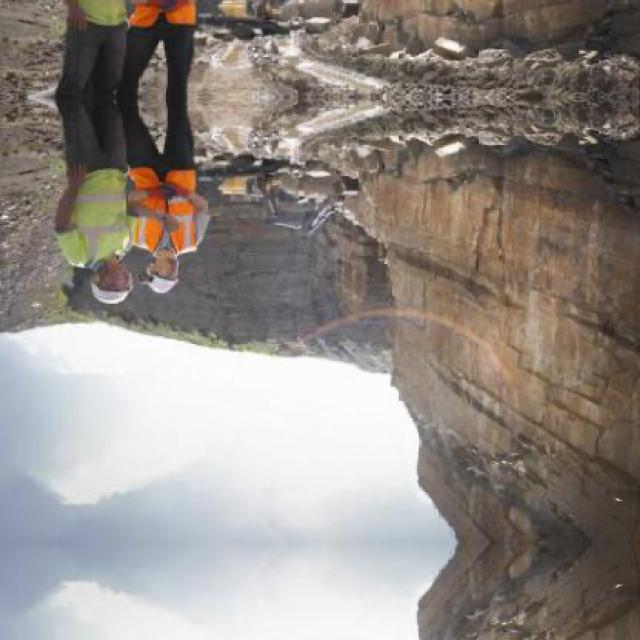con casco: (61, 260, 132, 306), (147, 250, 191, 300)
